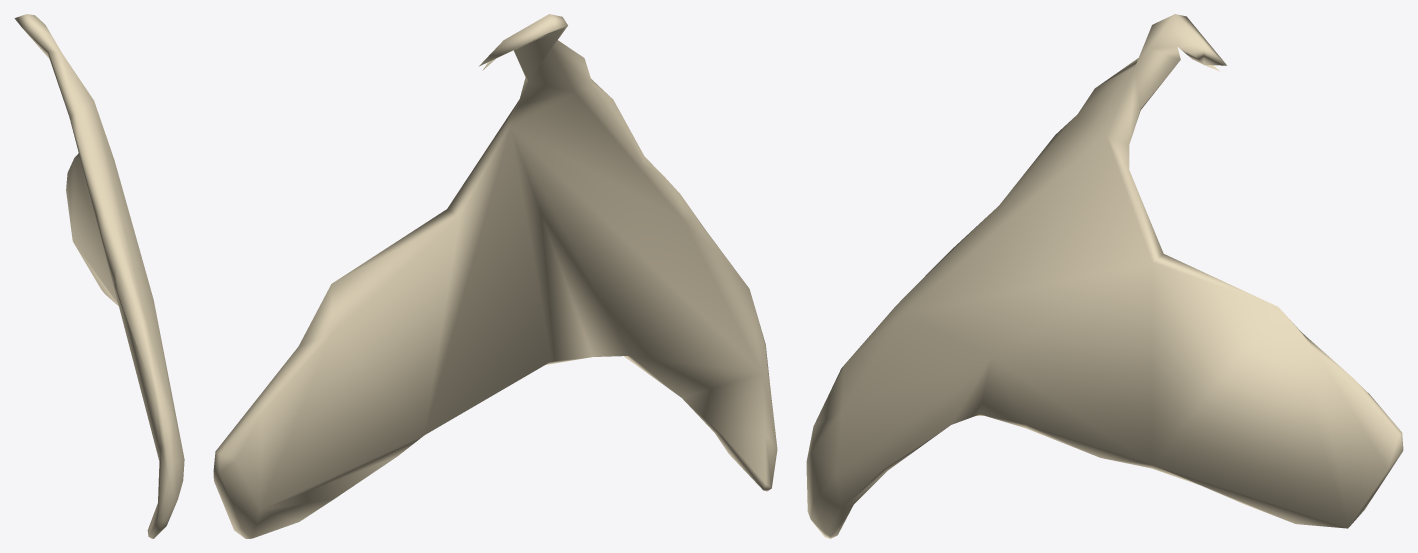
The model's file is esqueleto-lateral-process-of-nasal-septal-cartilage-l.glb.
The picture shows the model from 3 angles, left to right: view 1: azimuth 30°, elevation 25°; view 2: azimuth 150°, elevation 25°; view 3: azimuth 270°, elevation 25°; orthographic projection. The views are drawn at different scales.
Visible parts, largest first — view 1: Lateral process of nasal septal cartilage.l; view 2: Lateral process of nasal septal cartilage.l; view 3: Lateral process of nasal septal cartilage.l.
Part boxes in pixels (x1,y1,x2,y2): Lateral process of nasal septal cartilage.l: (14, 14, 184, 538); Lateral process of nasal septal cartilage.l: (213, 14, 777, 538); Lateral process of nasal septal cartilage.l: (806, 14, 1403, 538).
Bounding box in the file's own units: 0.0131 × 0.033 × 0.0335.
